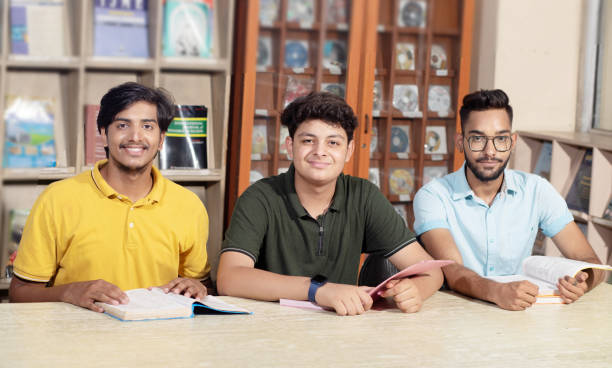men: (89, 79, 192, 186), (268, 89, 363, 194), (454, 88, 525, 188)
